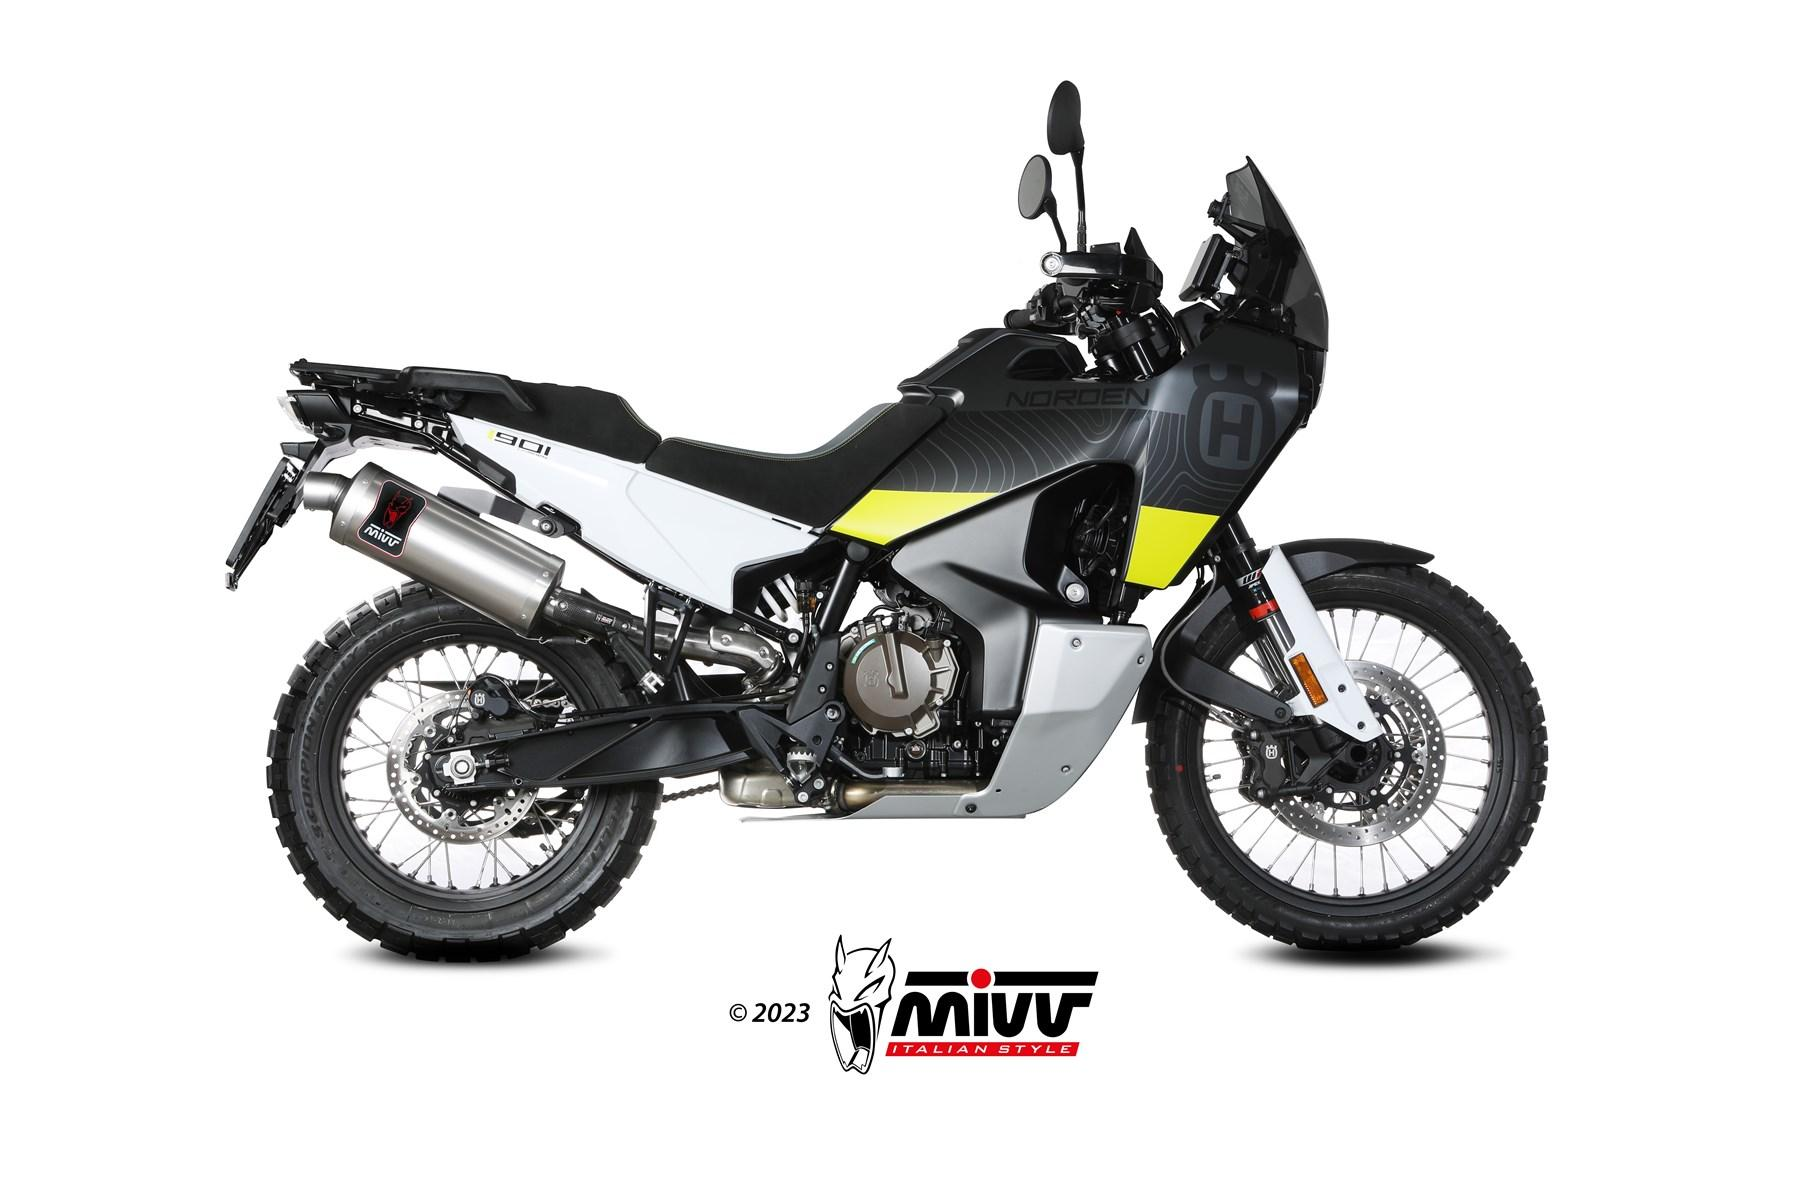engine-chasis: (735, 463, 1153, 822), (754, 573, 801, 624)
exhaust: (303, 461, 644, 647), (718, 750, 991, 817), (679, 605, 800, 695), (654, 620, 678, 659)
frontside: (806, 154, 1436, 796)
handlebar: (1002, 79, 1279, 370)
motorbike: (225, 80, 1550, 960)
rearside: (225, 358, 841, 792)
seat: (454, 380, 943, 528)
tank: (896, 328, 1089, 404)
watermark: (723, 929, 1105, 1075)
wheel: (1145, 564, 1550, 952), (267, 579, 666, 963), (1160, 548, 1248, 733), (517, 683, 798, 725), (662, 781, 719, 804), (1185, 565, 1205, 601)
